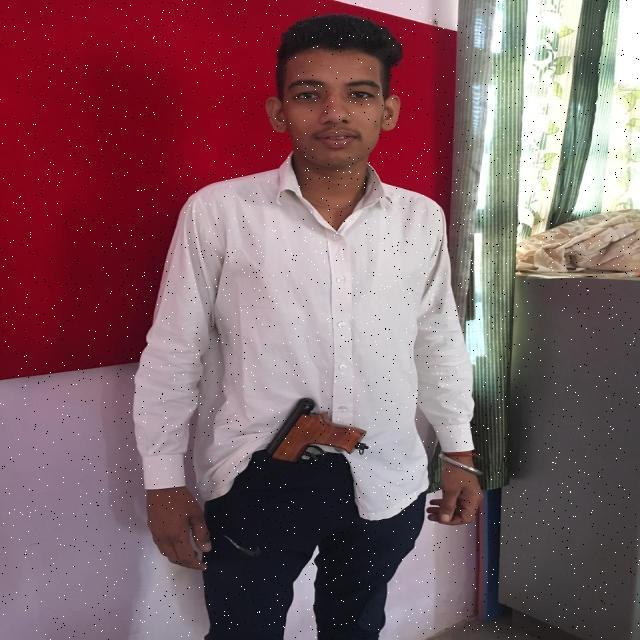gun: (254, 391, 377, 468)
